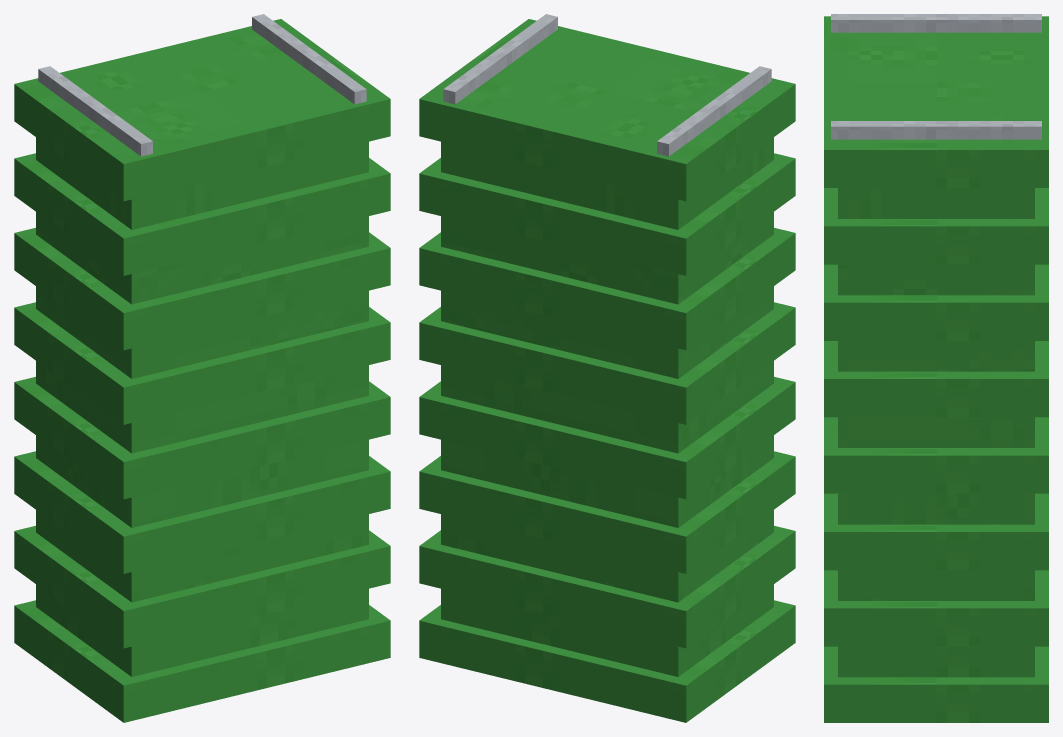
3 renders of one model, left to right at view 1: azimuth 30°, elevation 25°; view 2: azimuth 150°, elevation 25°; view 3: azimuth 270°, elevation 25°, orthographic. The views are drawn at different scales.
Visible parts, largest first — view 1: Decor_basket_stack; view 2: Decor_basket_stack; view 3: Decor_basket_stack.
Boxes of the visible parts, x1,y1,x2,y2 form: Decor_basket_stack: [14, 14, 390, 722]; Decor_basket_stack: [419, 14, 795, 722]; Decor_basket_stack: [824, 14, 1048, 722].
Size of the model in its own units: 0.45 by 0.92 by 0.32.
2 materials, 2 textured.
